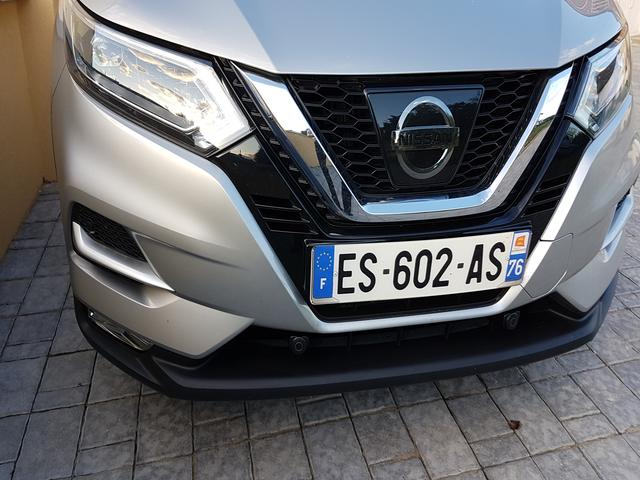Quashquai: (276, 211, 557, 317)
